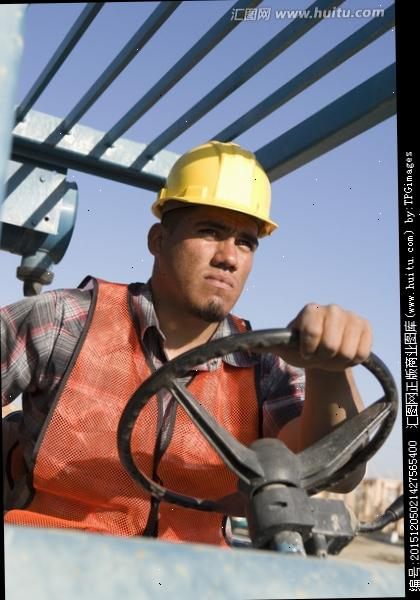helmet: (150, 134, 282, 238)
wear: (28, 314, 276, 550)
